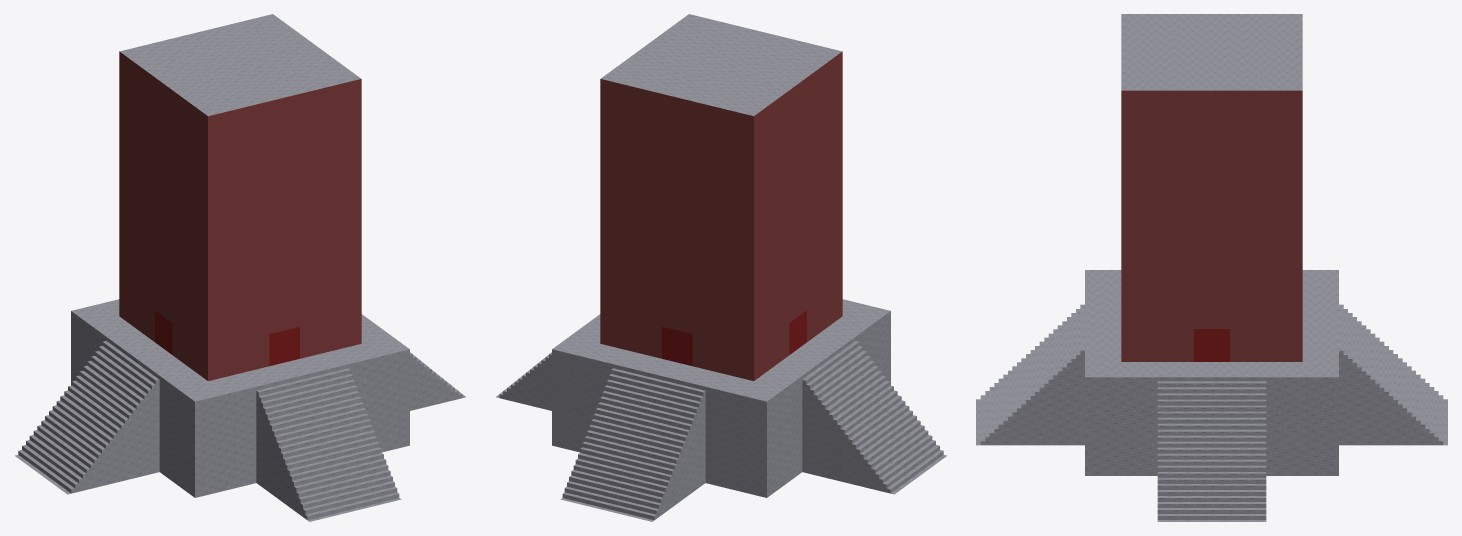
The model's file is Building_House_Top.fbx.
3 renders of one model, left to right at view 1: azimuth 30°, elevation 25°; view 2: azimuth 150°, elevation 25°; view 3: azimuth 270°, elevation 25°, orthographic. The views are drawn at different scales.
Visible parts, largest first — view 1: Building_House001, Building_Stairs001, Building_Base001; view 2: Building_House001, Building_Stairs001, Building_Base001; view 3: Building_House001, Building_Stairs001, Building_Base001.
Part boxes in pixels (x1=…): Building_House001: x1=119, y1=14, x2=361, y2=380; Building_Stairs001: x1=15, y1=337, x2=465, y2=521; Building_Base001: x1=71, y1=299, x2=409, y2=497; Building_House001: x1=600, y1=14, x2=842, y2=380; Building_Stairs001: x1=496, y1=337, x2=946, y2=521; Building_Base001: x1=552, y1=299, x2=890, y2=497; Building_House001: x1=1121, y1=14, x2=1302, y2=361; Building_Stairs001: x1=976, y1=304, x2=1447, y2=521; Building_Base001: x1=1085, y1=270, x2=1338, y2=475.
Bounding box in the file's own units: 2600 × 2250 × 2600.
